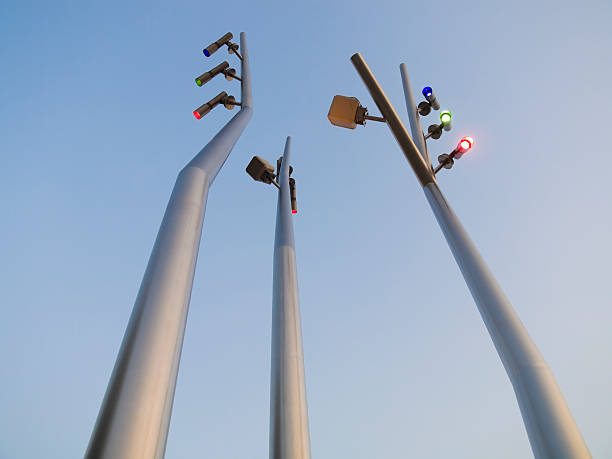light_pole: (424, 179, 593, 459), (82, 154, 224, 458), (264, 166, 314, 459)
